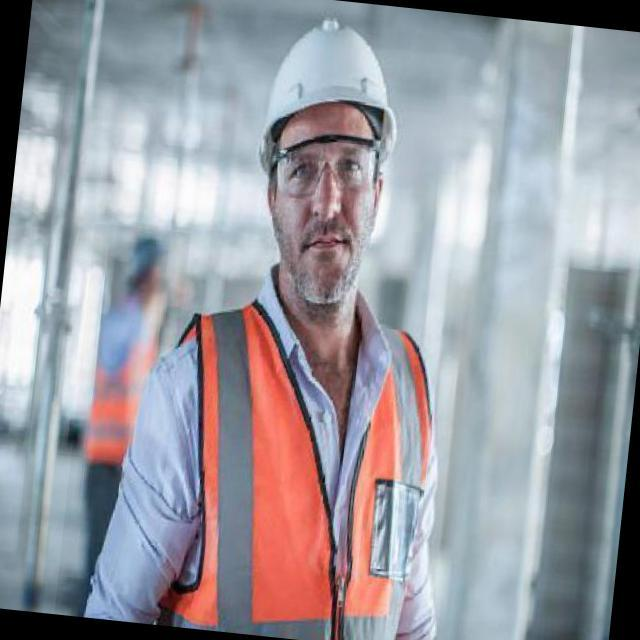Helmet: (254, 10, 411, 191)
Person: (68, 0, 483, 640)
Safety Vest: (149, 290, 444, 640), (80, 307, 163, 473)
